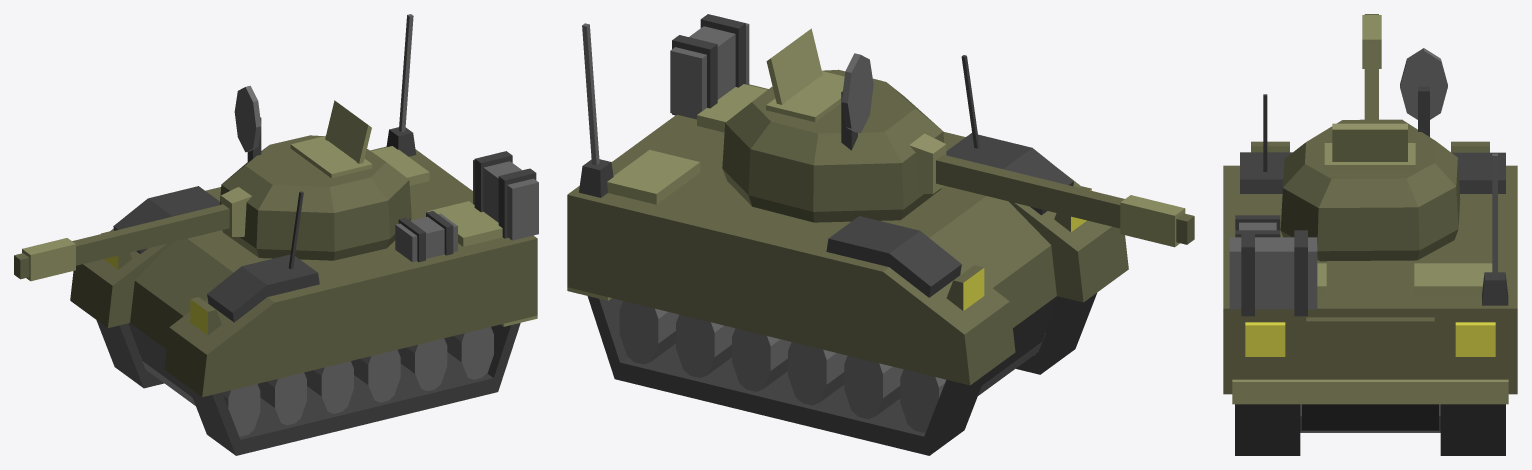
Rendered from Tank.fbx.
3 views of the same model, side by side, from view 1: azimuth 30°, elevation 25°; view 2: azimuth 150°, elevation 25°; view 3: azimuth 270°, elevation 25° (orthographic). The views are drawn at different scales.
Visible parts, largest first — view 1: Cube.002; view 2: Cube.002; view 3: Cube.002.
Part boxes in pixels (box(x1,y1,x2,y2)): Cube.002: box(14, 14, 538, 455); Cube.002: box(567, 14, 1194, 455); Cube.002: box(1223, 14, 1517, 455).
Size of the model in its own units: 1255 by 739 by 622.
